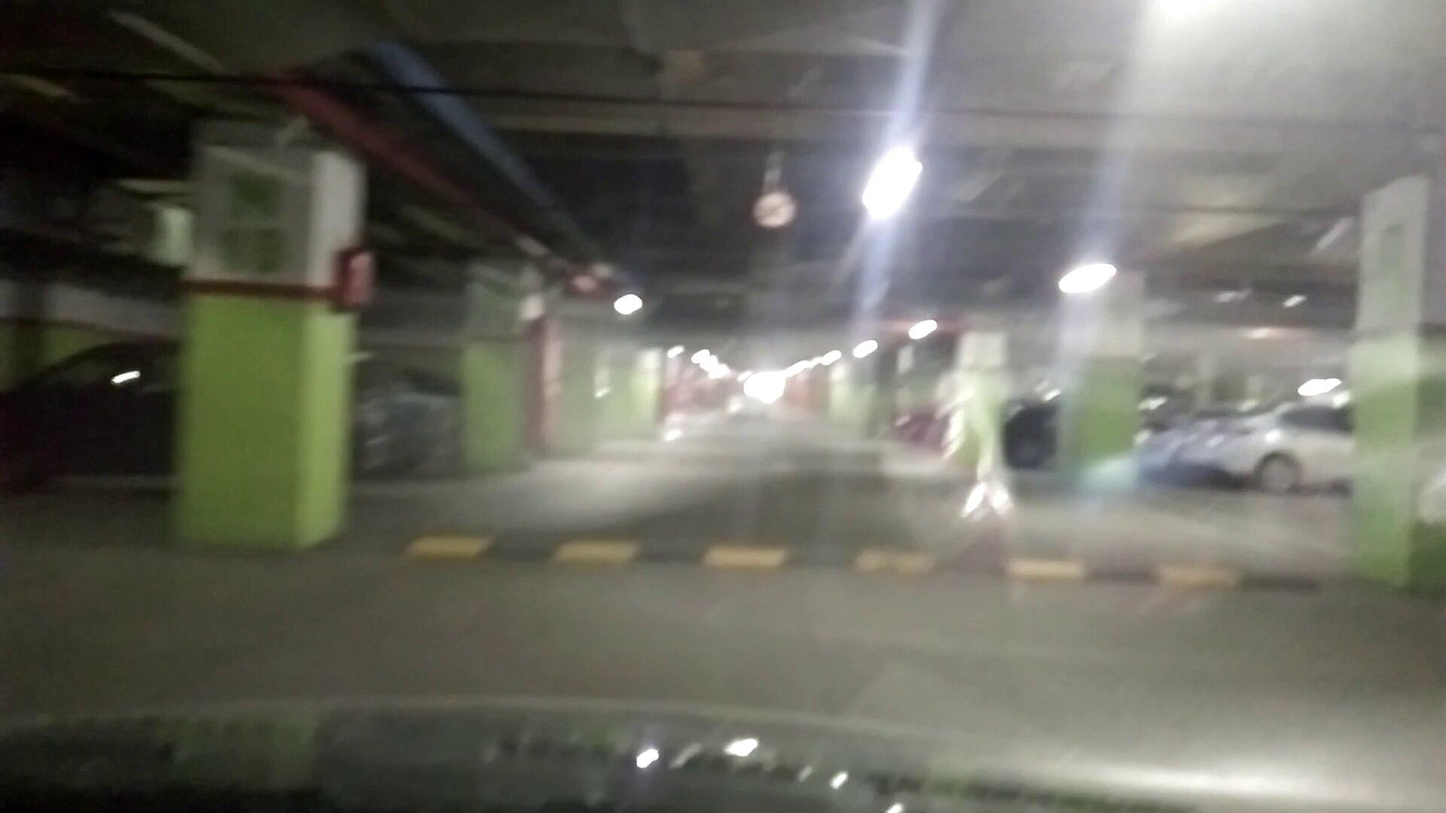Bump: (382, 529, 1391, 610)
